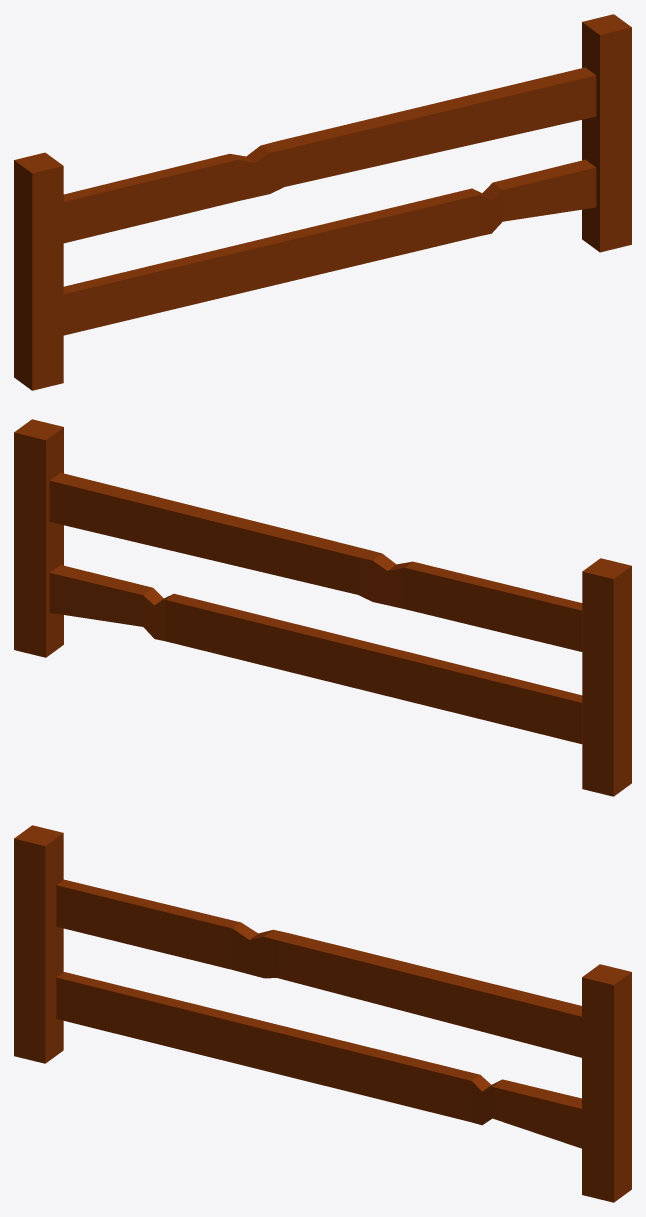
The model's file is fence_segment_3.glb.
3 views of the same model, one above another, from view 1: azimuth 30°, elevation 25°; view 2: azimuth 150°, elevation 25°; view 3: azimuth 330°, elevation 25° (orthographic).
Parts seen in each view (by area): view 1: fence_segment_3; view 2: fence_segment_3; view 3: fence_segment_3.
Part boxes in pixels (box(x1,y1,x2,y2)): fence_segment_3: box(14, 14, 631, 390); fence_segment_3: box(14, 419, 631, 796); fence_segment_3: box(14, 825, 631, 1202).
Size of what is drawn, in the model's own units: 3.17 by 1.1 by 0.1694.
